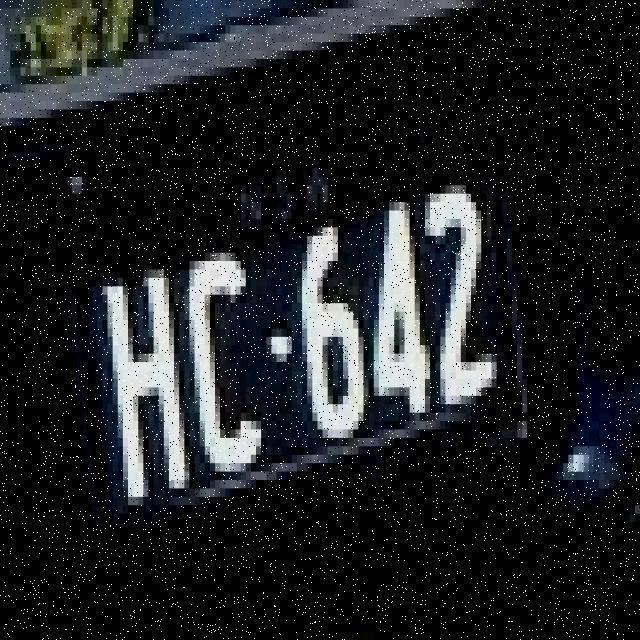license_plate: (56, 105, 572, 582)
